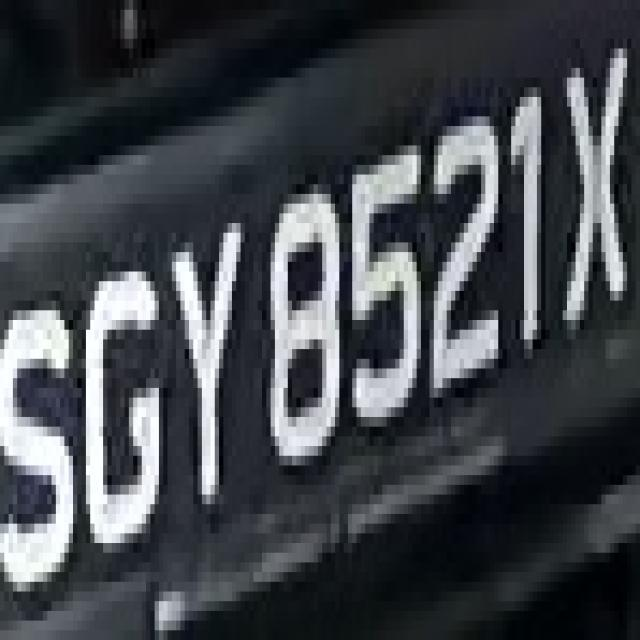1: (494, 87, 563, 388)
2: (421, 88, 507, 408)
5: (339, 136, 434, 456)
8: (262, 165, 357, 494)
G: (82, 233, 172, 572)
S: (8, 262, 82, 611)
X: (550, 19, 640, 349)
Y: (163, 194, 249, 543)
